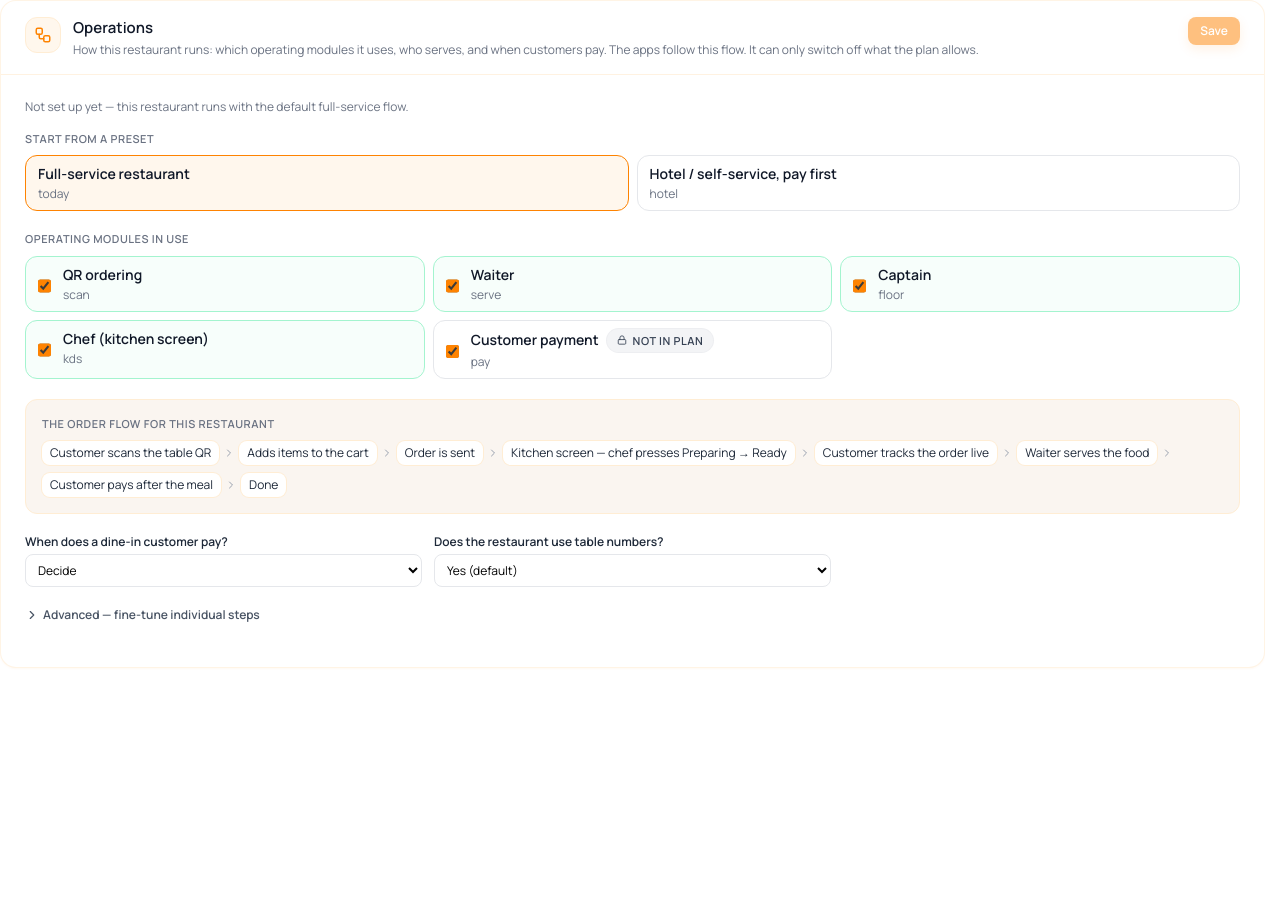
Test: OperationsPanel › count-type advanced setting (tables.maxTablesPerWaiter) › renders a numeric input (0-1000) defaulting to 0; boolean rows still render as checkboxes
The image size is (1280, 900).
Expected: the element with test id "ops-modules" is shown, left=25, top=256, right=1240, bottom=379
Click the button "Advanced — fine-tune individual steps" at (142, 615), box left=25, top=607, right=260, bottom=623
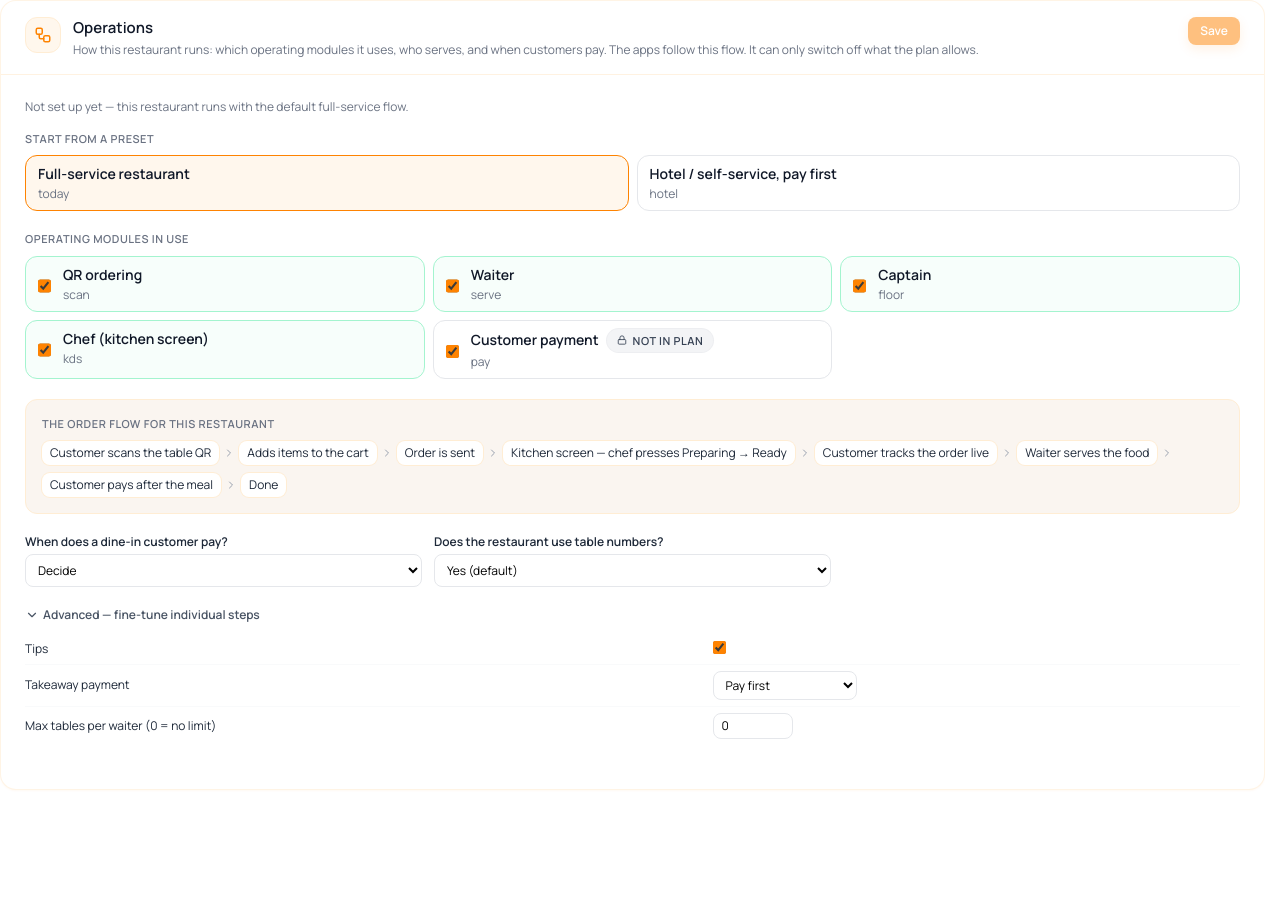
Expected: the number field named "Max tables per waiter (0 = no limit)" holds "0", left=712, top=713, right=792, bottom=739
